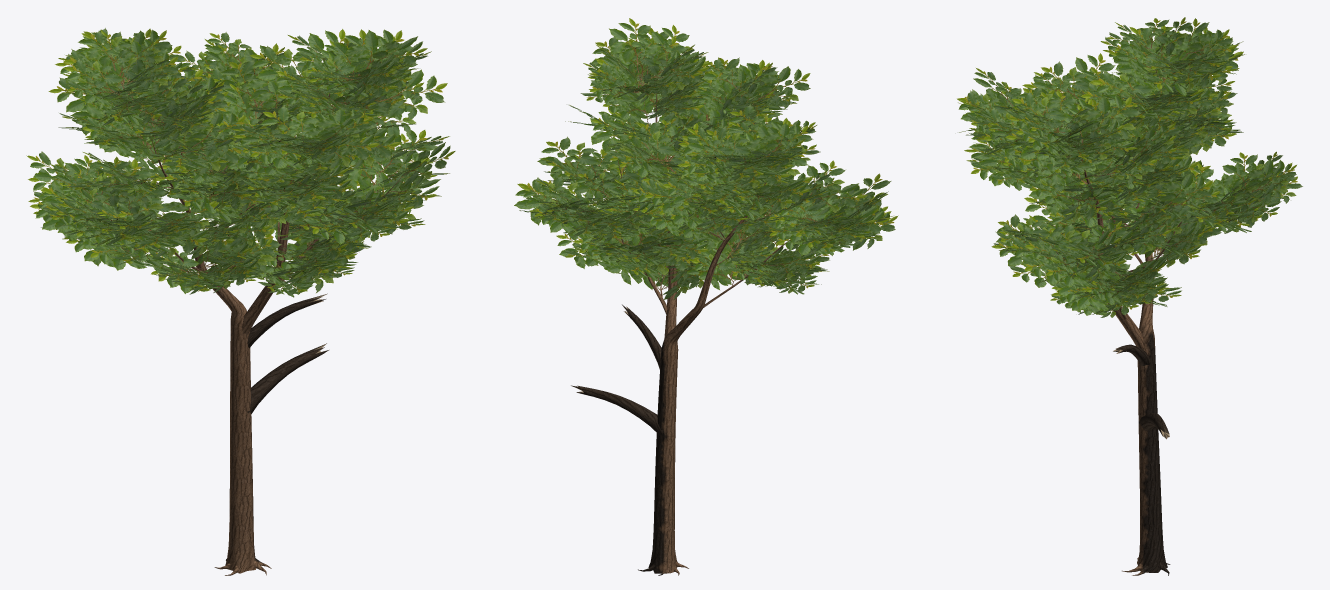
File: corealm_teak_lastroot.glb
3 renders of one model, left to right at view 1: azimuth 30°, elevation 25°; view 2: azimuth 150°, elevation 25°; view 3: azimuth 270°, elevation 25°, orthographic. The views are drawn at different scales.
Visible parts, largest first — view 1: corealm_teak_lastroot; view 2: corealm_teak_lastroot; view 3: corealm_teak_lastroot.
Boxes of the visible parts, x1,y1,x2,y2 form: corealm_teak_lastroot: [26, 28, 455, 575]; corealm_teak_lastroot: [514, 18, 898, 575]; corealm_teak_lastroot: [957, 17, 1302, 575].
Bounding box in the file's own units: 8.76 × 10.68 × 7.28.
Materials: 3 (2 with a texture image).
